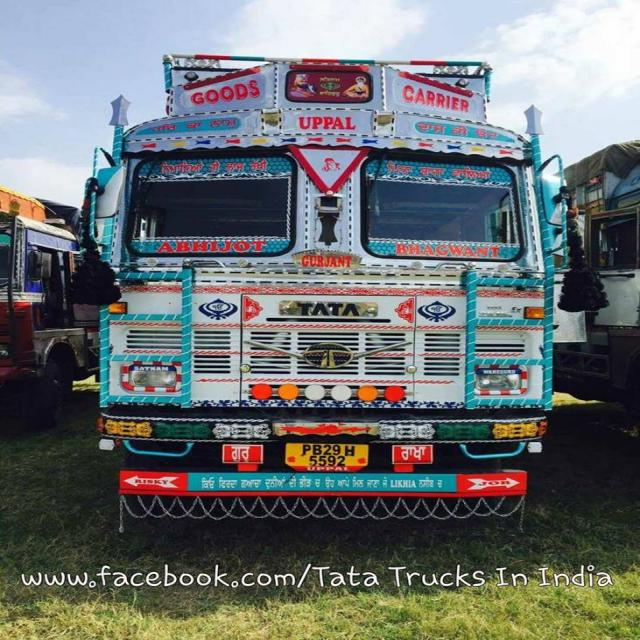truck: (89, 34, 582, 550), (0, 189, 97, 419)
